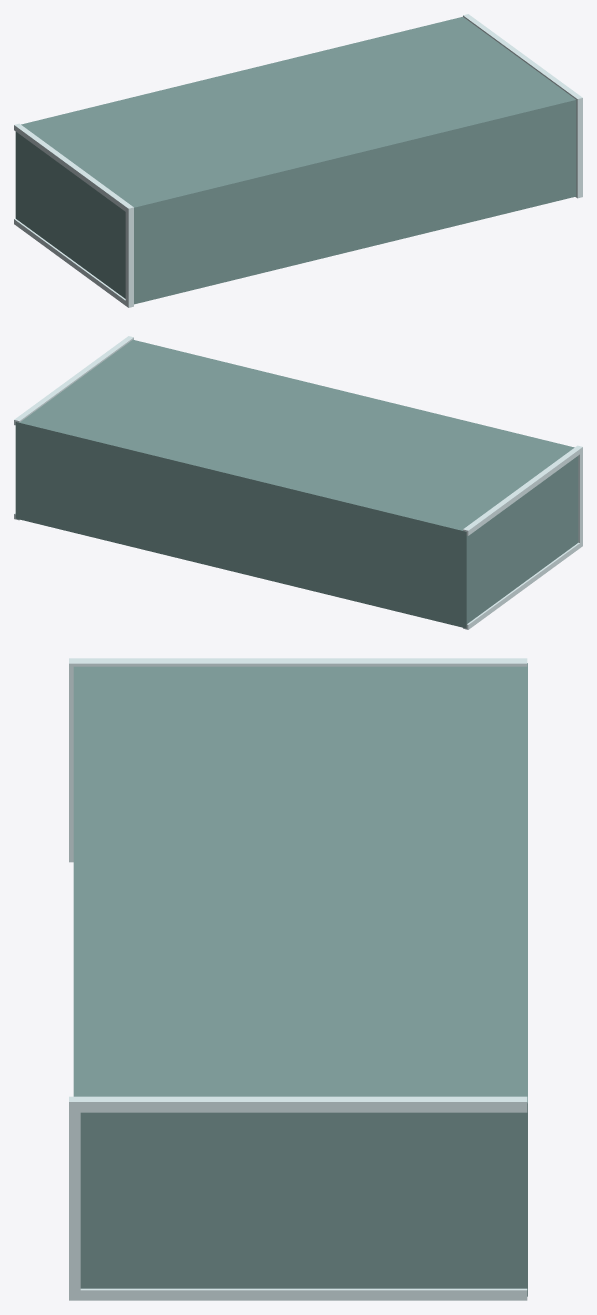
File: Step floor.fbx
The picture shows the model from 3 angles, top to bottom: view 1: azimuth 30°, elevation 25°; view 2: azimuth 150°, elevation 25°; view 3: azimuth 270°, elevation 25°; orthographic projection. The views are drawn at different scales.
Visible parts, largest first — view 1: 立方体.002; view 2: 立方体.002; view 3: 立方体.002.
Boxes of the visible parts, <box> form: 立方体.002: <box>14,14,582,307</box>; 立方体.002: <box>14,336,582,629</box>; 立方体.002: <box>69,658,527,1300</box>.
Bounding box in the file's own units: 896 × 187 × 392.
